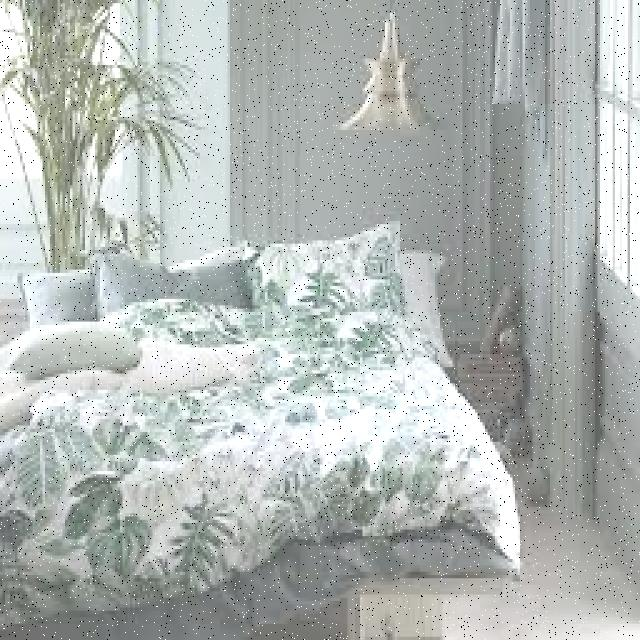bed: (0, 214, 465, 637)
